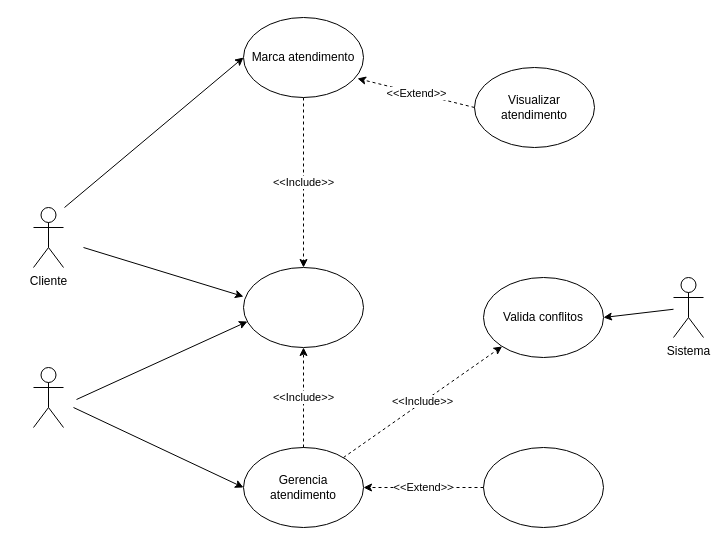
This 727x545 diagram has some shape labels left out. The centre of each missing label's shape, as x and y in pixels:
Autentica: point (303, 307)
Imprimi relatório: point (543, 487)
Profissional: point (48, 397)
